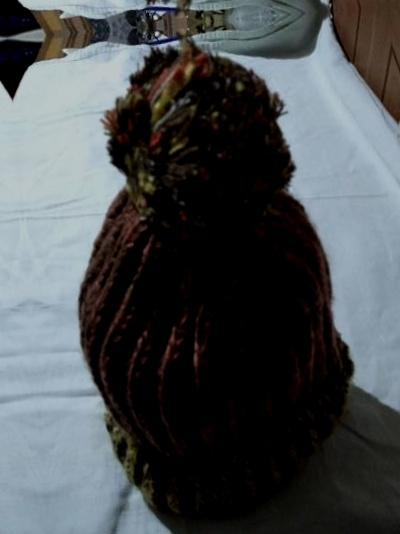Hat: (33, 27, 391, 503), (0, 58, 22, 534), (0, 0, 350, 18)
